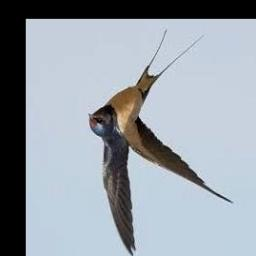Swallow: (89, 30, 235, 256)
